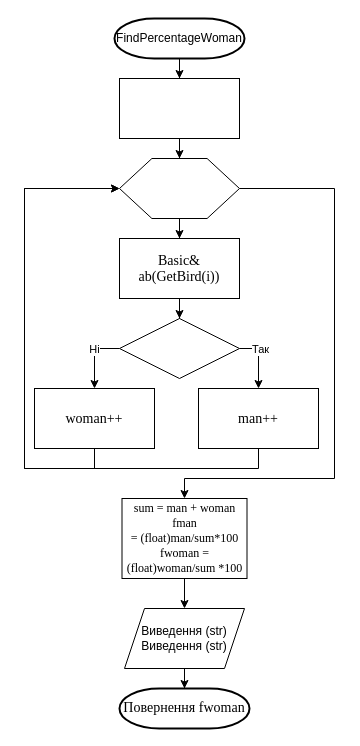
Some shapes in this 360 by 746 pixel diagram are drawn without their labels. Here are the shapes that lost their labels. From the top down, the box of each, then its label:
(118, 78, 240, 138): man = 0 woman = 0
(118, 158, 240, 218): i := 0..count, i++
(118, 318, 240, 378): ab.GetSex() == 0
